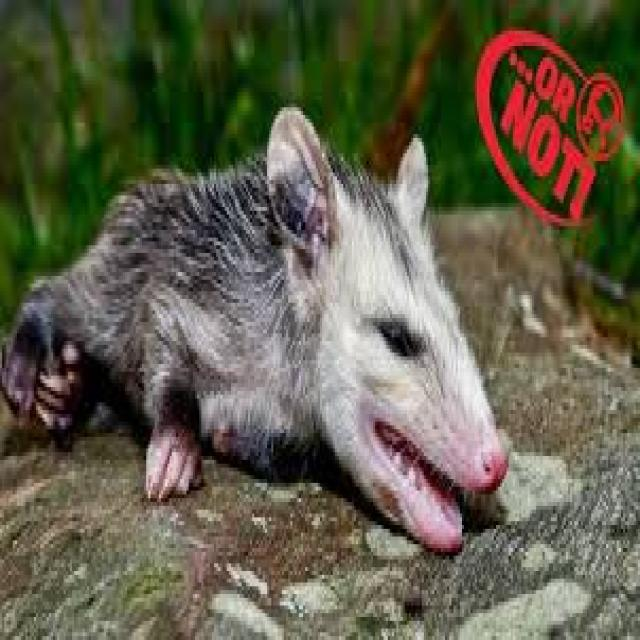Possum: (4, 102, 508, 554)
